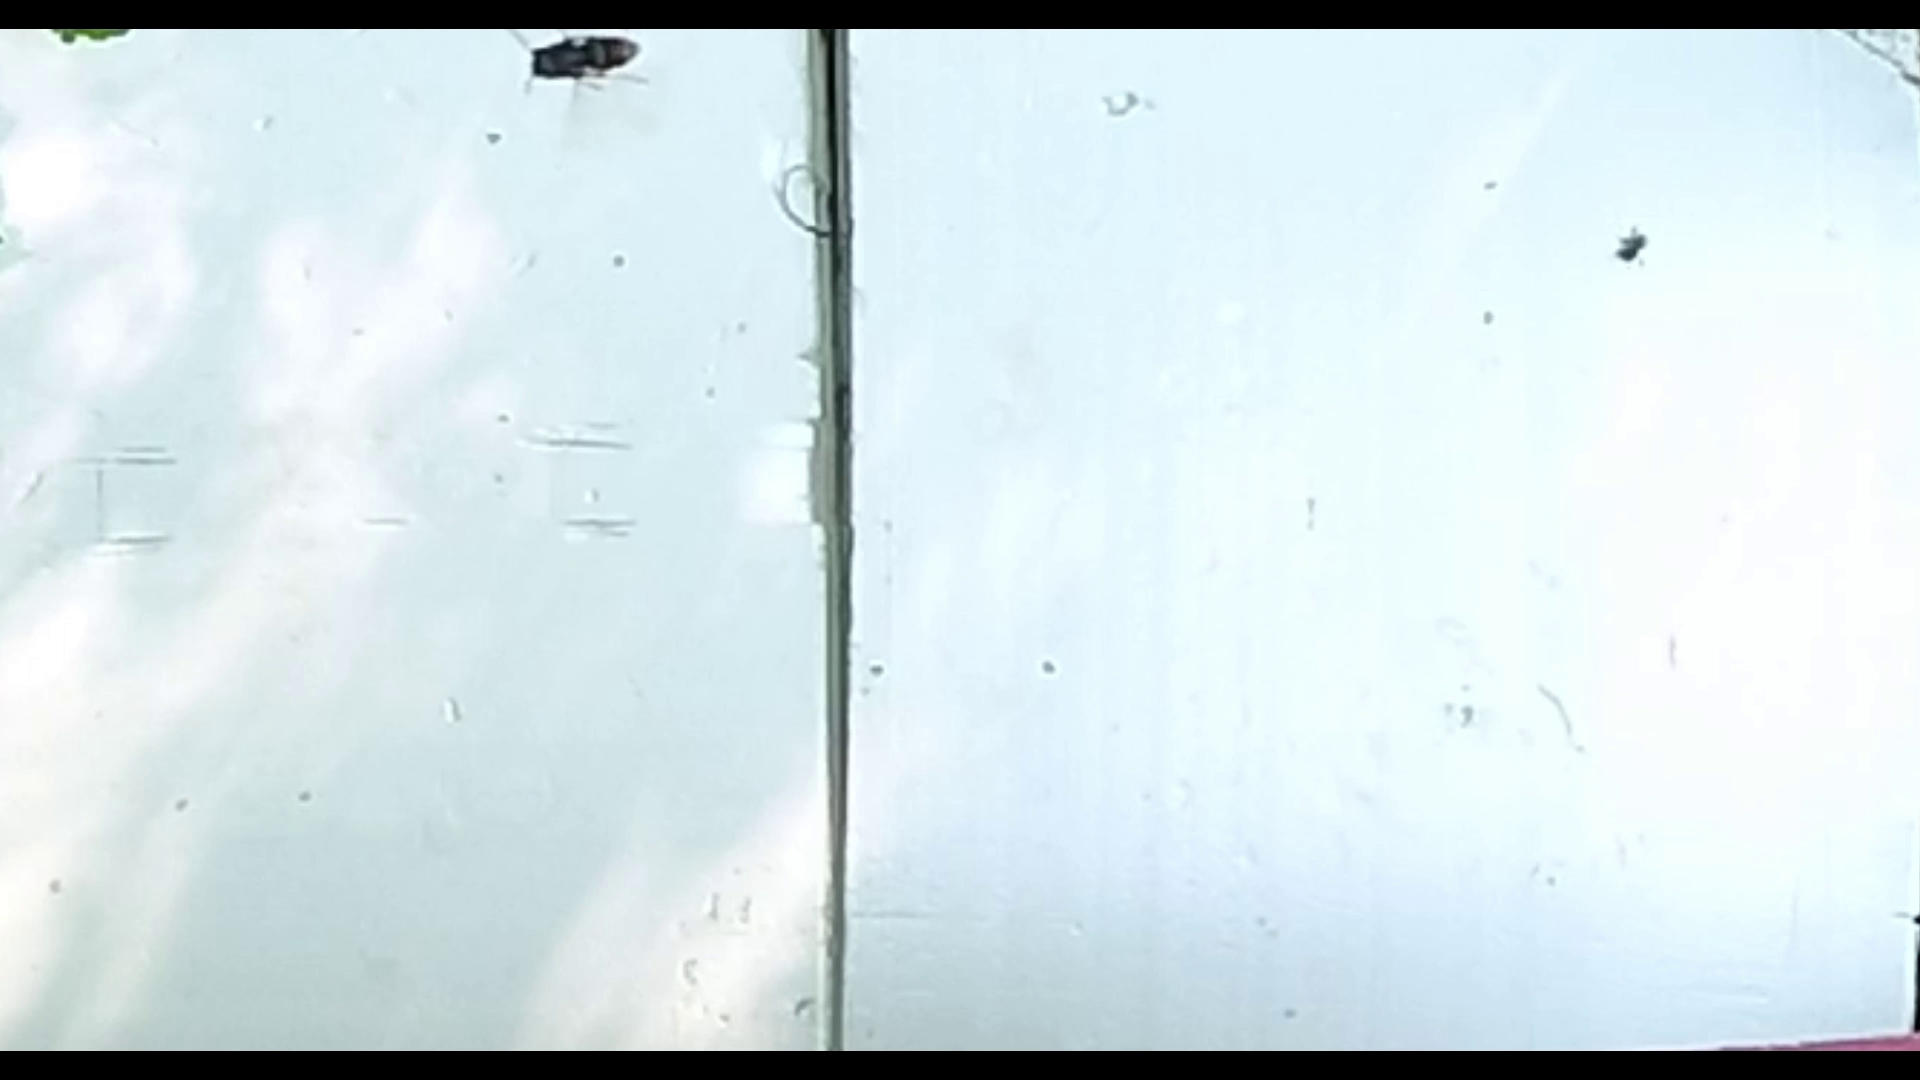Asian_hornets: (512, 30, 651, 116)
